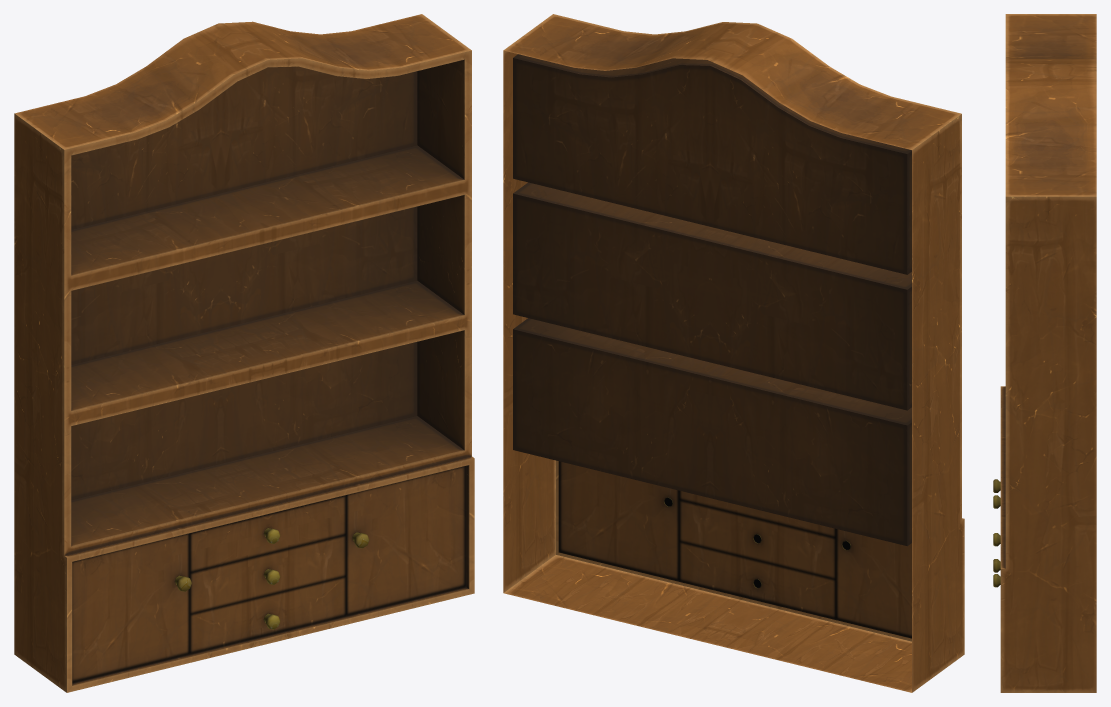
Rendered from Book Shelf.obj.
3 renders of one model, left to right at view 1: azimuth 30°, elevation 25°; view 2: azimuth 150°, elevation 25°; view 3: azimuth 270°, elevation 25°, orthographic. The views are drawn at different scales.
Parts seen in each view (by area): view 1: Book_Shelf; view 2: Book_Shelf; view 3: Book_Shelf.
Part boxes in pixels (left/top/right/bottom): Book_Shelf: left=14, top=14, right=474, bottom=692; Book_Shelf: left=503, top=14, right=964, bottom=692; Book_Shelf: left=993, top=14, right=1096, bottom=692.
Size of the model in its own units: 11.45 by 15.6 by 2.75.
